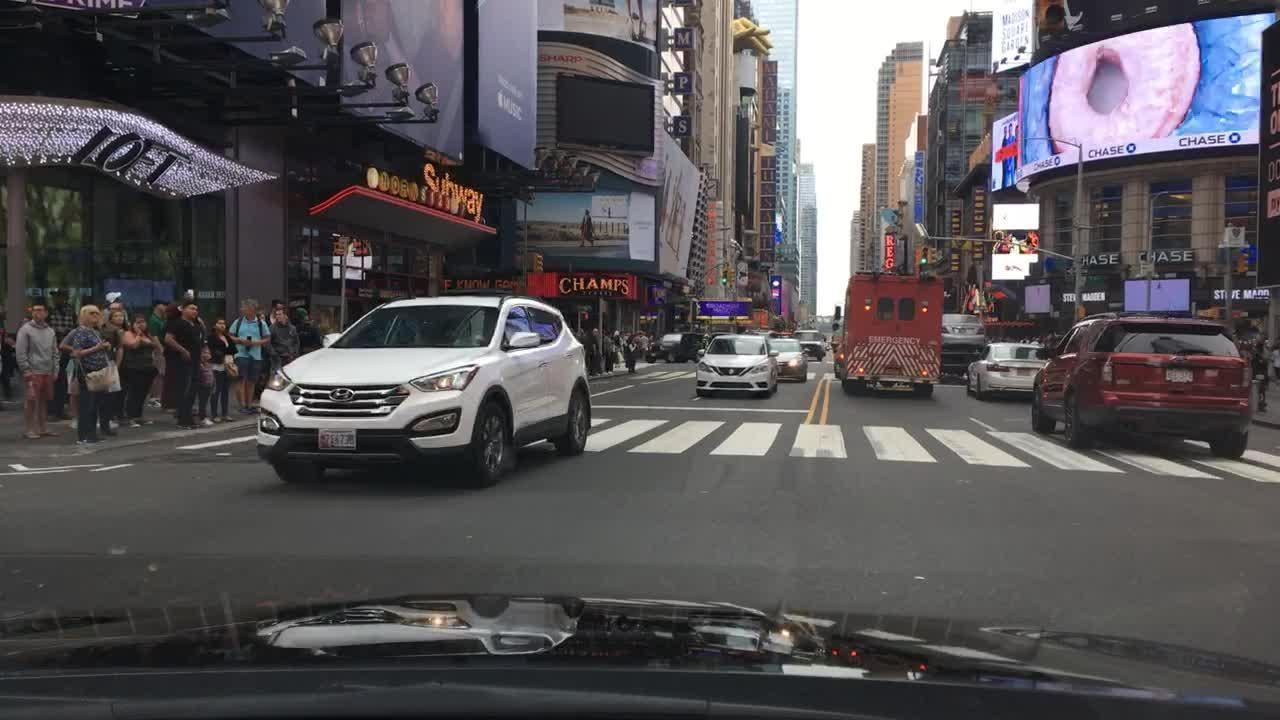Hyundai: (325, 384, 356, 404)
